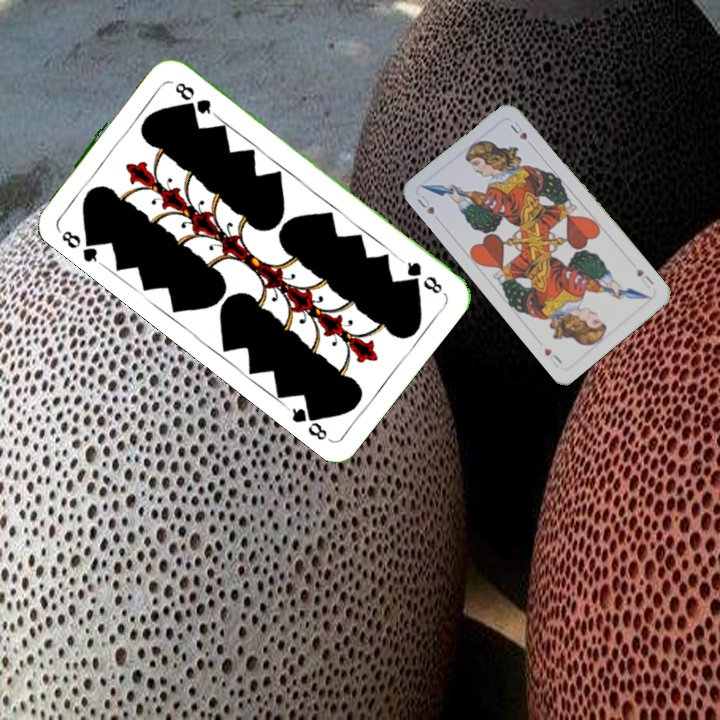G8: (53, 224, 103, 266), (397, 255, 445, 297)
HU: (632, 264, 657, 291), (413, 191, 437, 217)
